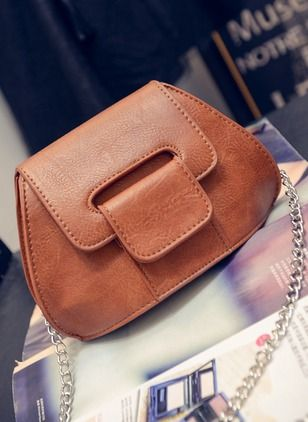cuero: (14, 79, 282, 339)
